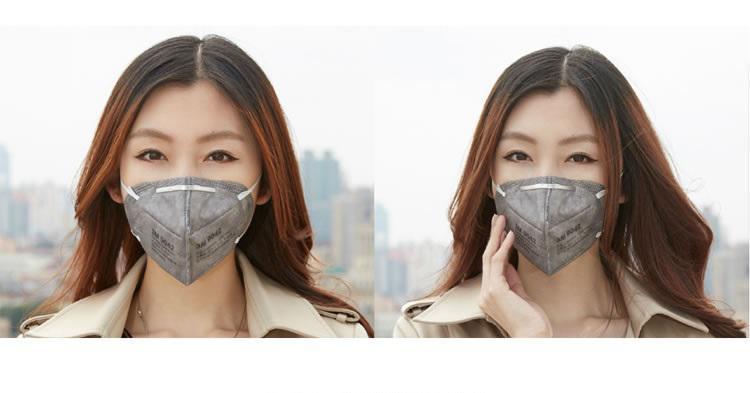OK: (120, 123, 270, 273), (490, 122, 631, 263)
